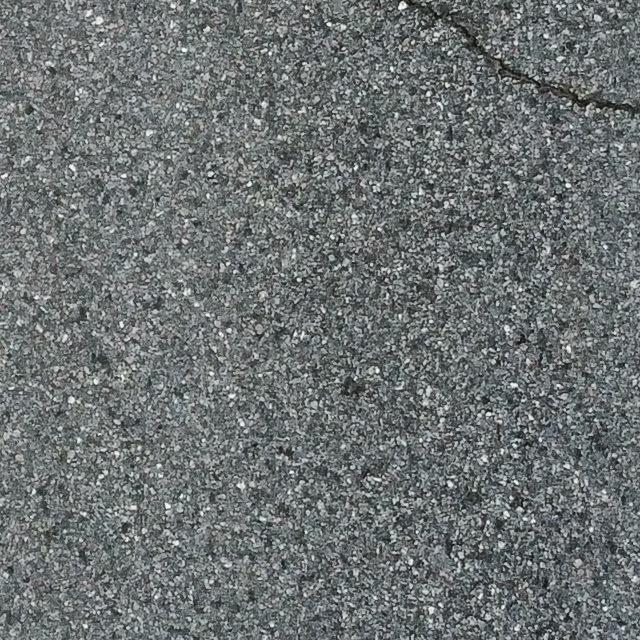TransverseCrack: (405, 1, 640, 116)
